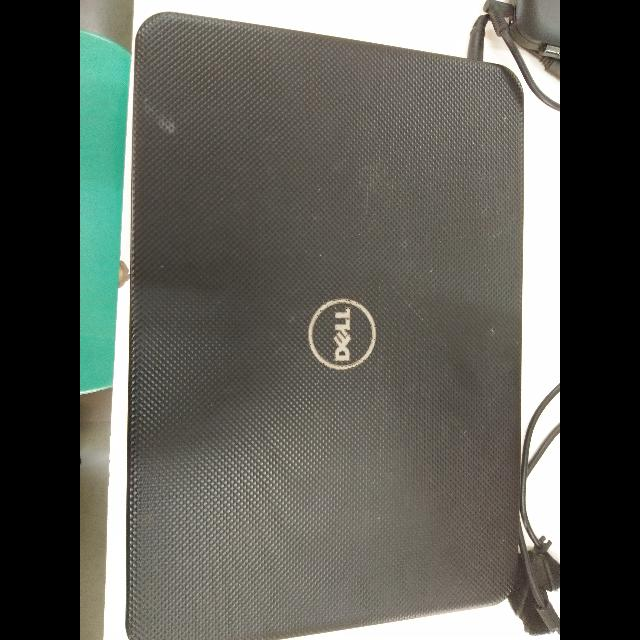Laptop: (118, 6, 534, 640)
